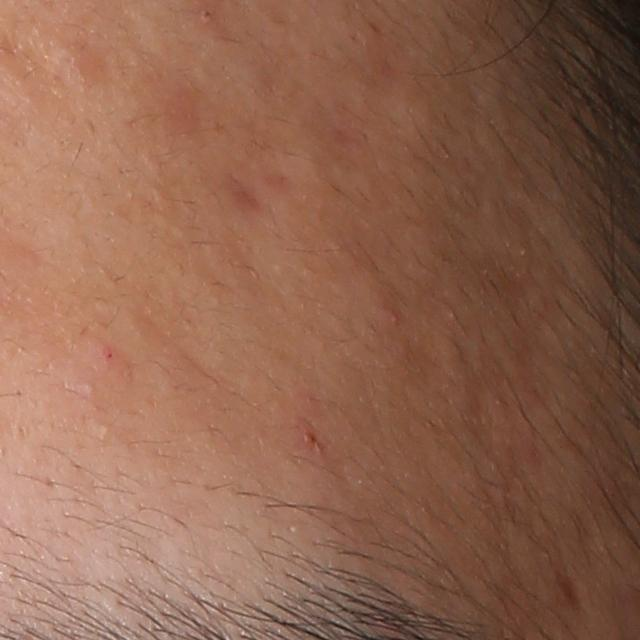atrophic_scar: (553, 569, 585, 604)
